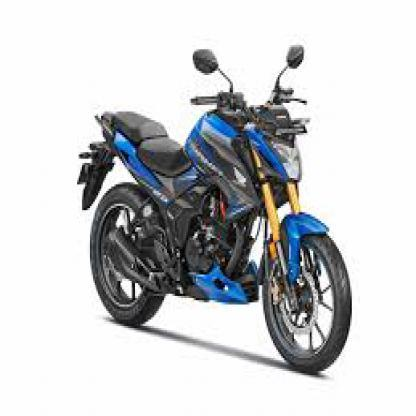Motorcycle: (73, 36, 354, 374)
